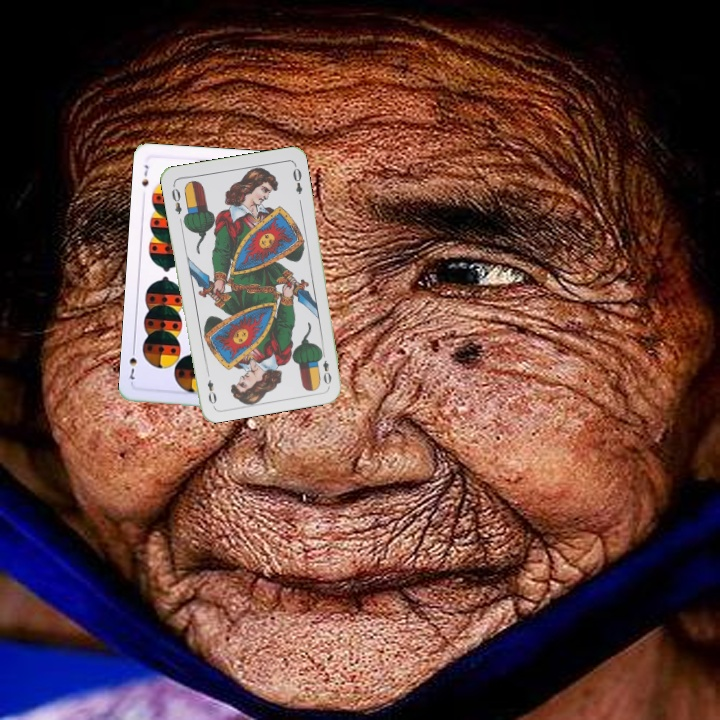EO: (316, 347, 334, 387), (167, 181, 184, 217)
S7: (138, 161, 151, 189)
